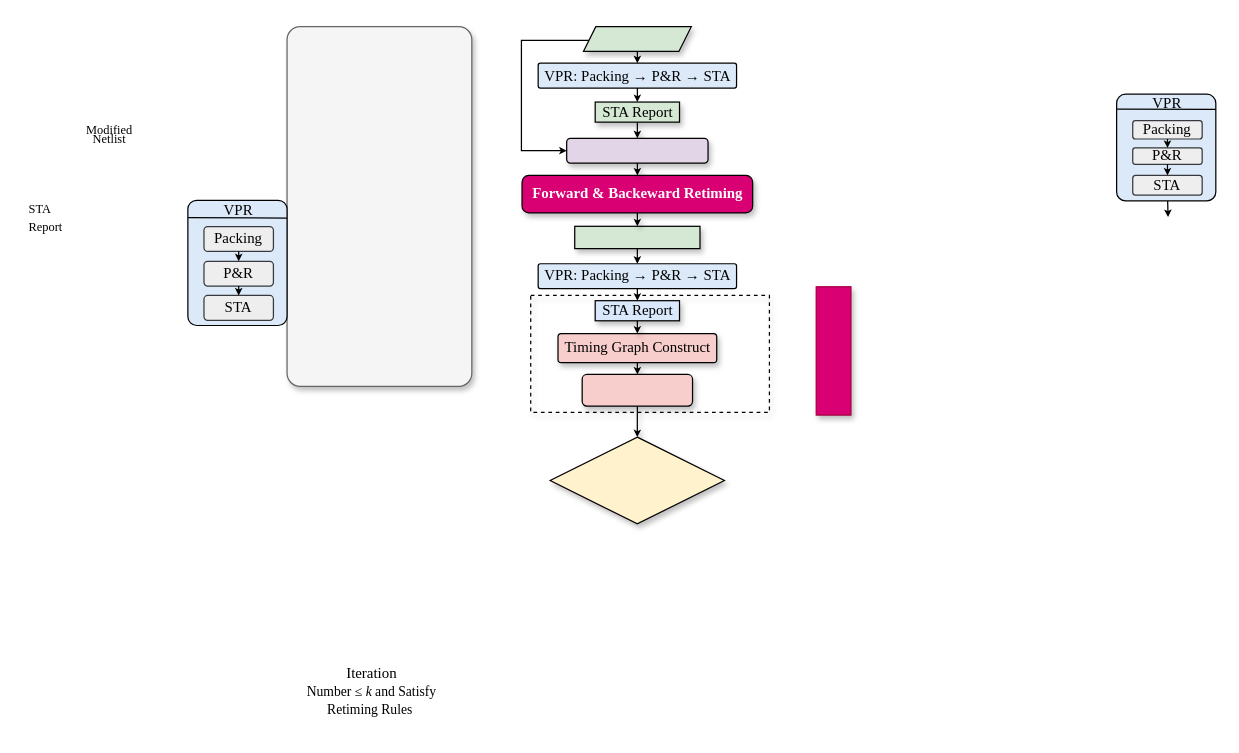
The diagram is 1239 pixels wide and 753 high, and some of its shapes have lost their labels. Each missing label, with the centre of its shape:
BLIF Netlist: point 638,40
Graph Construct: point 637,152
Latch-based Timing Optimizer: point 834,352
MC2TR Solver: point 638,391
Retimed Netlist: point 638,238
